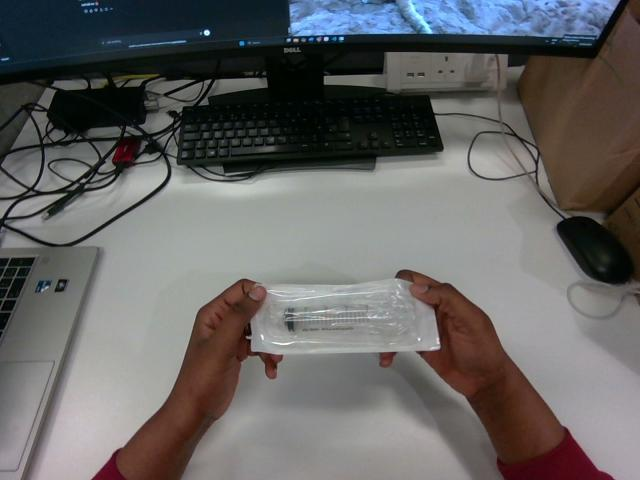syringe: (251, 279, 439, 353)
